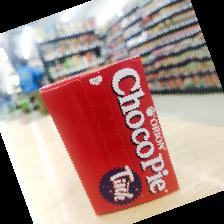Chocopie: (40, 54, 180, 216)
